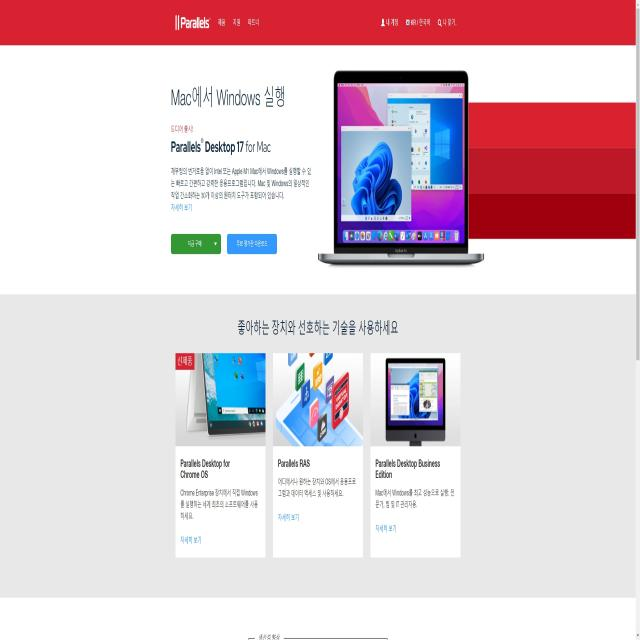menu-bar: (372, 12, 462, 36)
tab-bar: (214, 9, 266, 39)
